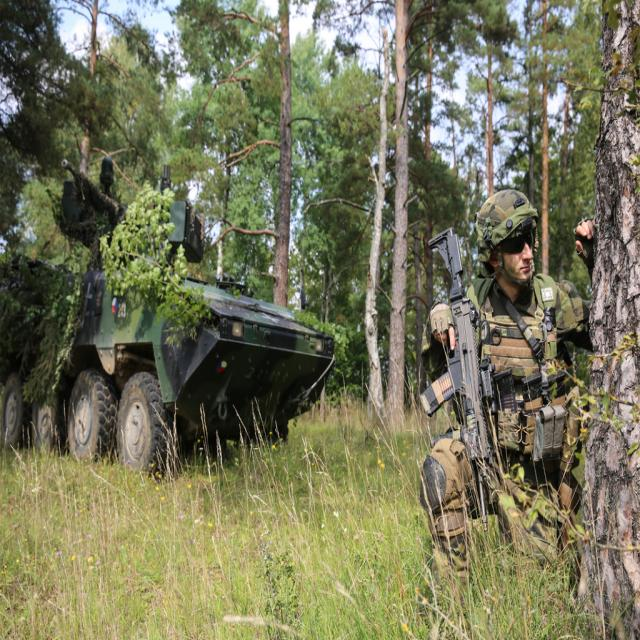tank: (0, 158, 336, 472)
